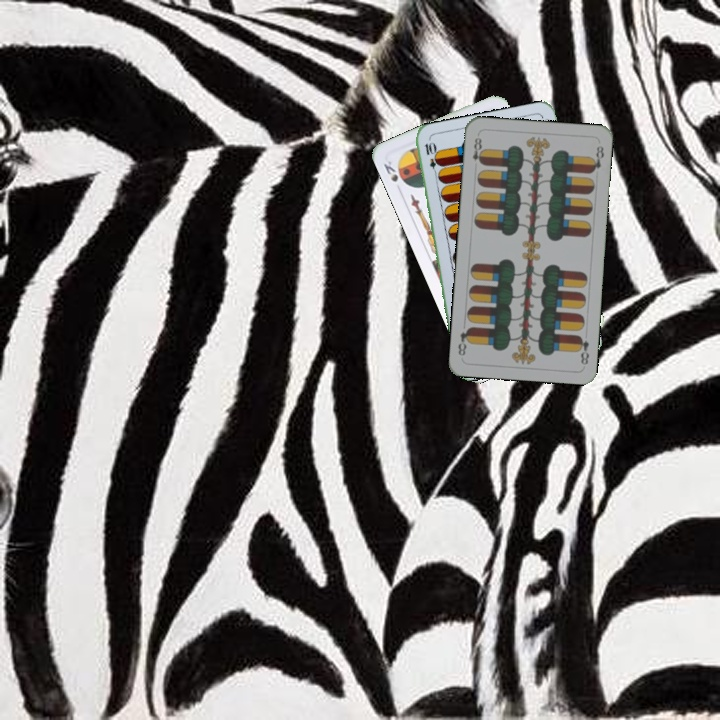E10: (421, 138, 441, 179)
E8: (573, 331, 592, 367), (468, 131, 486, 167)
SK: (379, 157, 408, 187)
